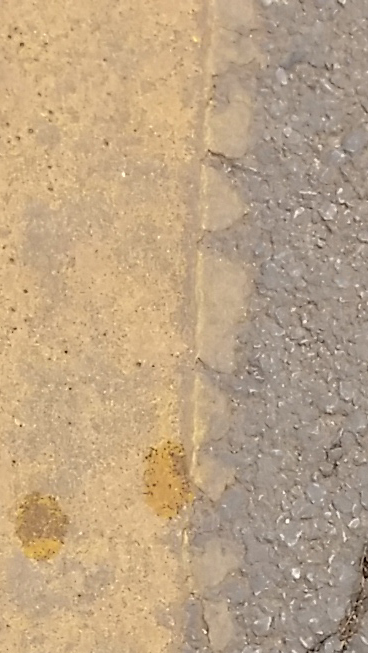A: (305, 470, 363, 649)
